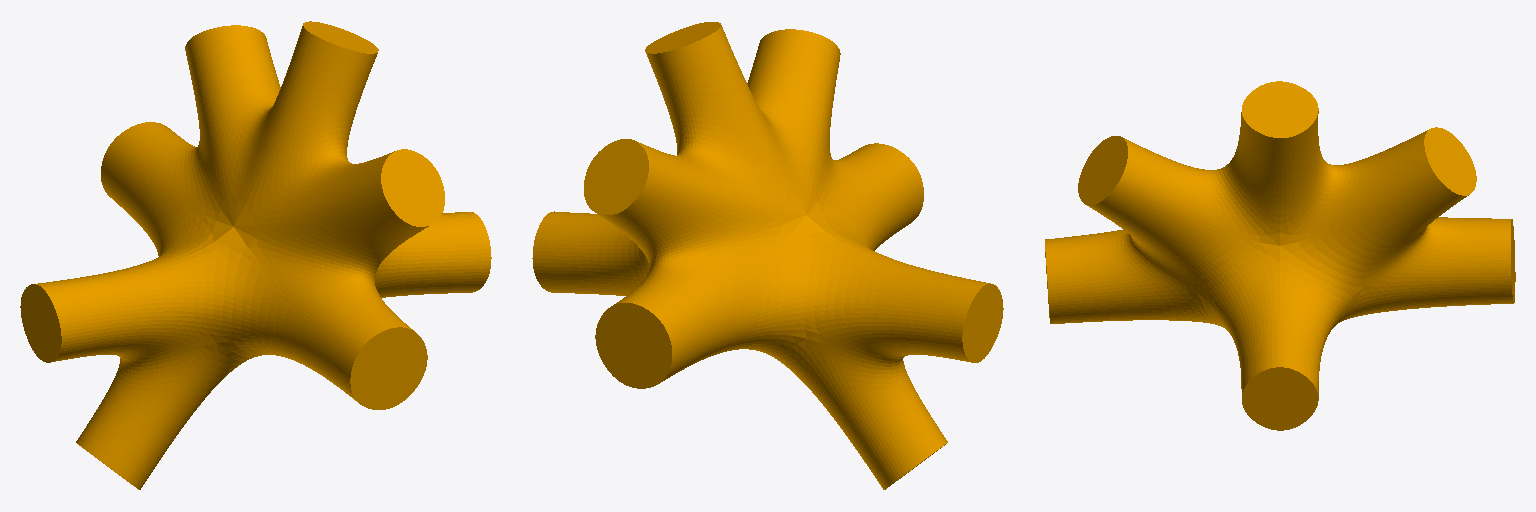
The robot description file, URDF, robot "object":
<robot name="object">
  <link name="object">
    <visual>
      <origin xyz="0 0 0"/>
      <geometry>
        <mesh filename="visual.obj" scale="1 1 1"/>
      </geometry>
    </visual>
    <collision>
      <origin xyz="0 0 0"/>
      <geometry>
        <mesh filename="collision.obj" scale="1 1 1"/>
      </geometry>
    </collision>
    <inertial>
      <mass value="0.05"/>
      <inertia ixx="2.2226740837424058e-05" iyy="1.913189185008625e-05" izz="2.5124200469700948e-05" ixy="-2.5774411467886516e-08" ixz="-3.9674206845168675e-06" iyz="-4.356809682674464e-07"/>
    </inertial>
  </link>
</robot>

--- What the picture shows (computed from the rendered views, not written in the file) ---
3 views of the same robot in one strip: view 1: azimuth 30°, elevation 25°; view 2: azimuth 150°, elevation 25°; view 3: azimuth 270°, elevation 25° (orthographic).
Robot: object — 1 links, 0 joints (none); root link object; default pose: all joints at 0.
Links seen in each view (by area): view 1: object; view 2: object; view 3: object.
Boxes of the visible links, x1,y1,x2,y2 form: object: (20,21,491,489); object: (532,22,1003,489); object: (1045,81,1515,430).
Size in the robot's own frame: 0.087 by 0.0871 by 0.0787 metres.
1 mesh visuals loaded from 1 distinct referenced files (1 OBJ).
